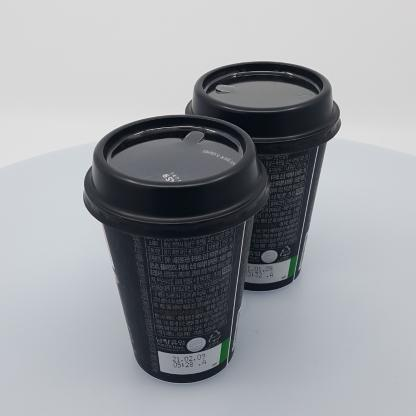----------------: (82, 114, 270, 384), (183, 61, 342, 292)
